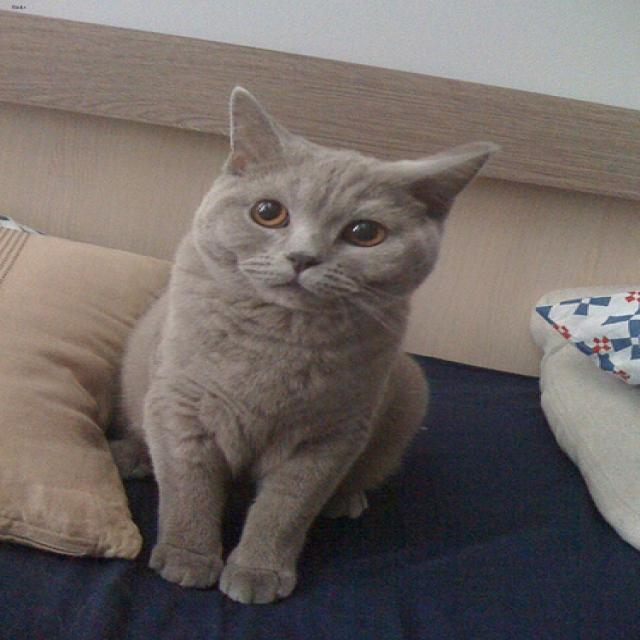British_Shorthair: (188, 86, 499, 334)
